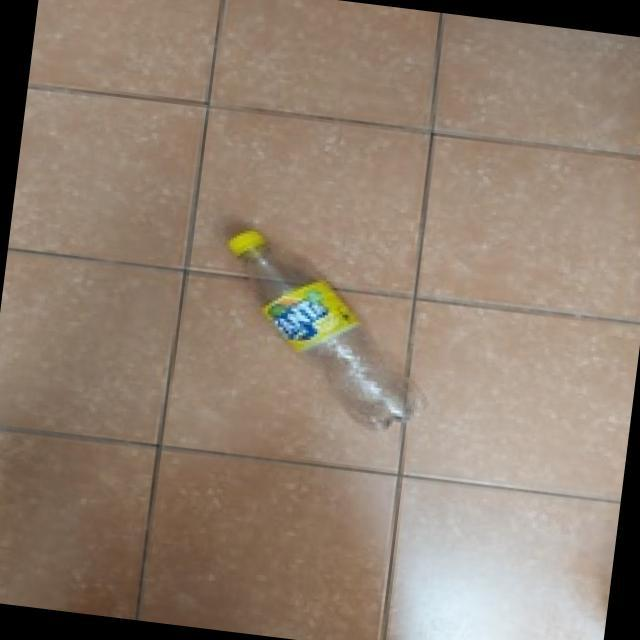good: (202, 214, 438, 440)
